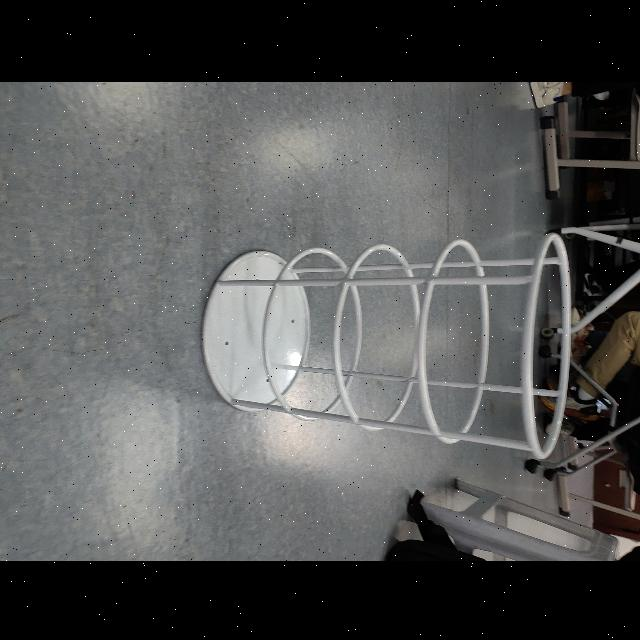S: (198, 228, 574, 460)
